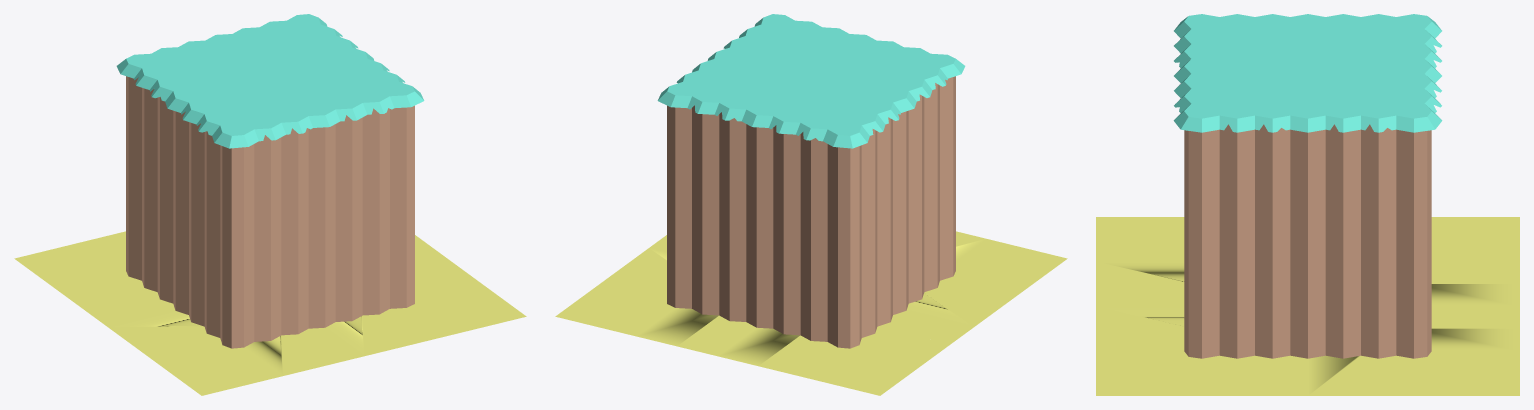
File: rock.fbx
3 views of the same model, side by side, from view 1: azimuth 30°, elevation 25°; view 2: azimuth 150°, elevation 25°; view 3: azimuth 270°, elevation 25° (orthographic). The views are drawn at different scales.
Parts seen in each view (by area): view 1: 2-ecke-außen-riff, 2-gerade-cliff, 1-ecke-außen-riff, 2-ecke-außen-cliff, 3-ecke-außen-riff, 2-gerade, 2-gerade-riff, 2-ecke-außen, 3-gerade-cliff, 1-ecke-außen-cliff, 3-gerade-riff, 1-ecke-außen (+10 smaller); view 2: 3-ecke-außen-riff, 0-gerade-cliff, 0-ecke-außen-riff, 3-ecke-außen-cliff, 2-ecke-außen-riff, 0-gerade, 0-gerade-riff, 3-ecke-außen, 3-gerade-cliff, 0-ecke-außen-cliff, 3-gerade-riff, 0-ecke-außen (+9 smaller); view 3: 1-gerade-cliff, 0-ecke-außen-riff, 1-ecke-außen-riff, 1-gerade, 1-gerade-riff, 1-ecke-außen-cliff, 0-ecke-außen-cliff, 0-ecke-außen, 1-ecke-außen, 3-ecke-außen-riff, 2-ecke-außen-riff, 0-gerade-riff (+10 smaller).
Part boxes in pixels (left/top/right/bottom): 2-ecke-außen-riff: left=131, top=285, right=323, bottom=395; 2-gerade-cliff: left=253, top=82, right=367, bottom=207; 1-ecke-außen-riff: left=362, top=261, right=526, bottom=346; 2-ecke-außen-cliff: left=196, top=102, right=285, bottom=220; 3-ecke-außen-riff: left=14, top=229, right=157, bottom=309; 2-gerade: left=281, top=188, right=362, bottom=292; 2-gerade-riff: left=281, top=273, right=404, bottom=365; 2-ecke-außen: left=204, top=200, right=281, bottom=305; 3-gerade-cliff: left=149, top=68, right=252, bottom=198; 1-ecke-außen-cliff: left=335, top=70, right=424, bottom=187; 3-gerade-riff: left=85, top=250, right=204, bottom=344; 1-ecke-außen: left=362, top=176, right=414, bottom=272; 3-ecke-außen-riff: left=758, top=285, right=950, bottom=395; 0-gerade-cliff: left=714, top=82, right=828, bottom=207; 0-ecke-außen-riff: left=555, top=261, right=719, bottom=346; 3-ecke-außen-cliff: left=796, top=102, right=885, bottom=220; 2-ecke-außen-riff: left=924, top=229, right=1067, bottom=309; 0-gerade: left=719, top=188, right=800, bottom=292; 0-gerade-riff: left=677, top=273, right=800, bottom=365; 3-ecke-außen: left=800, top=200, right=877, bottom=305; 3-gerade-cliff: left=829, top=68, right=932, bottom=198; 0-ecke-außen-cliff: left=657, top=70, right=746, bottom=187; 3-gerade-riff: left=877, top=250, right=996, bottom=344; 0-ecke-außen: left=667, top=176, right=719, bottom=272; 1-gerade-cliff: left=1255, top=88, right=1360, bottom=214; 0-ecke-außen-riff: left=1361, top=304, right=1519, bottom=395; 1-ecke-außen-riff: left=1096, top=304, right=1254, bottom=395; 1-gerade: left=1255, top=211, right=1360, bottom=310; 1-gerade-riff: left=1255, top=307, right=1360, bottom=395; 1-ecke-außen-cliff: left=1173, top=88, right=1254, bottom=214; 0-ecke-außen-cliff: left=1361, top=88, right=1442, bottom=214; 0-ecke-außen: left=1361, top=208, right=1431, bottom=310; 1-ecke-außen: left=1184, top=208, right=1254, bottom=310; 3-ecke-außen-riff: left=1431, top=217, right=1519, bottom=283; 2-ecke-außen-riff: left=1096, top=217, right=1184, bottom=283; 0-gerade-riff: left=1431, top=284, right=1519, bottom=328.
Size of the model in its own units: 400 by 250 by 400.
